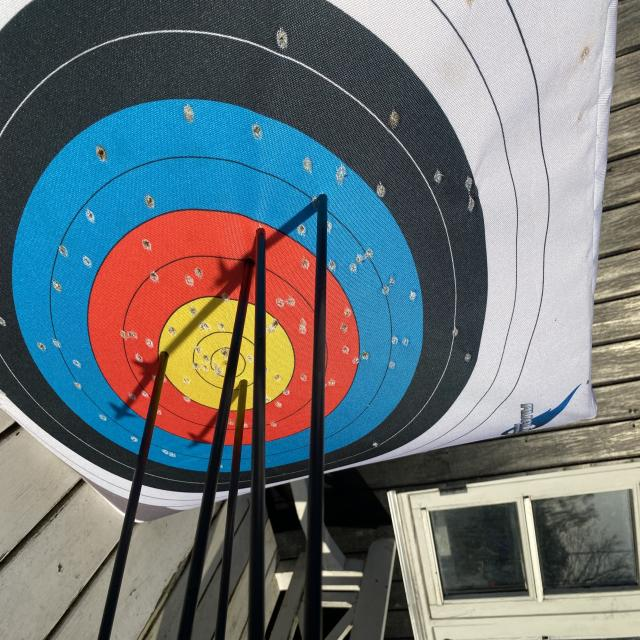Arrow_Blue: (306, 179, 349, 231)
Arrow_Red: (247, 210, 276, 248), (230, 244, 257, 282)
Arrow_Yellow: (154, 338, 182, 372), (236, 372, 254, 403)
